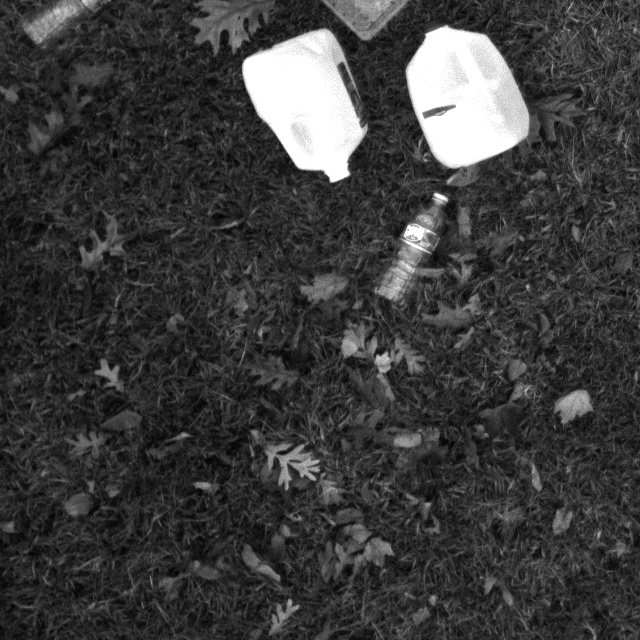bottle: (368, 182, 473, 305), (21, 0, 145, 59)
can: (235, 18, 382, 193), (399, 18, 542, 175)
